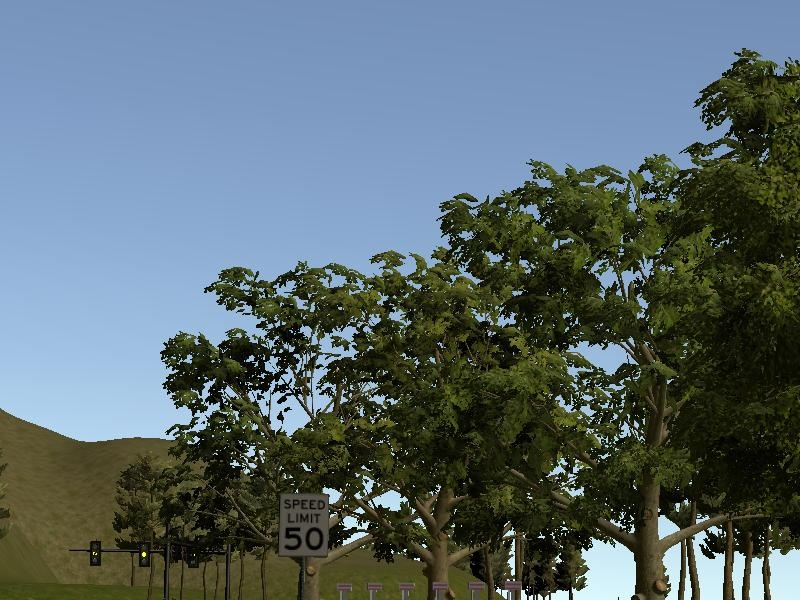yellow: (89, 542, 101, 566), (188, 544, 199, 568), (139, 543, 150, 566)
